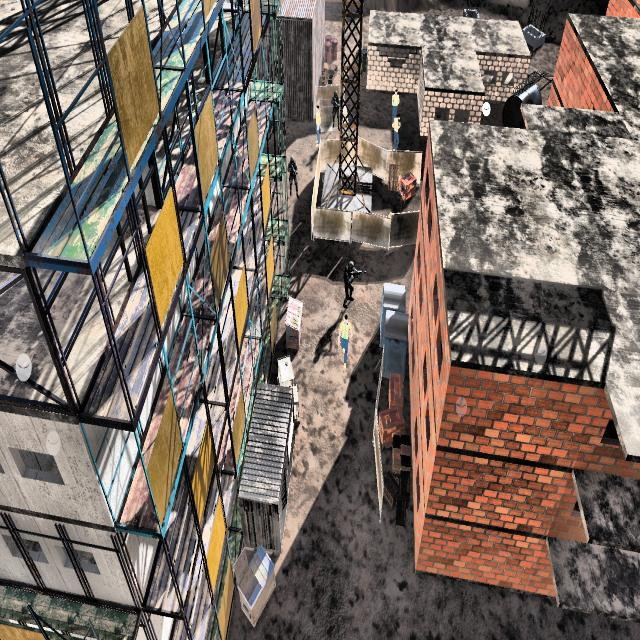bad: (341, 247, 363, 314), (328, 83, 342, 135), (288, 146, 300, 200)
good: (332, 314, 354, 379), (308, 100, 324, 156), (388, 117, 403, 153), (391, 76, 404, 112)
